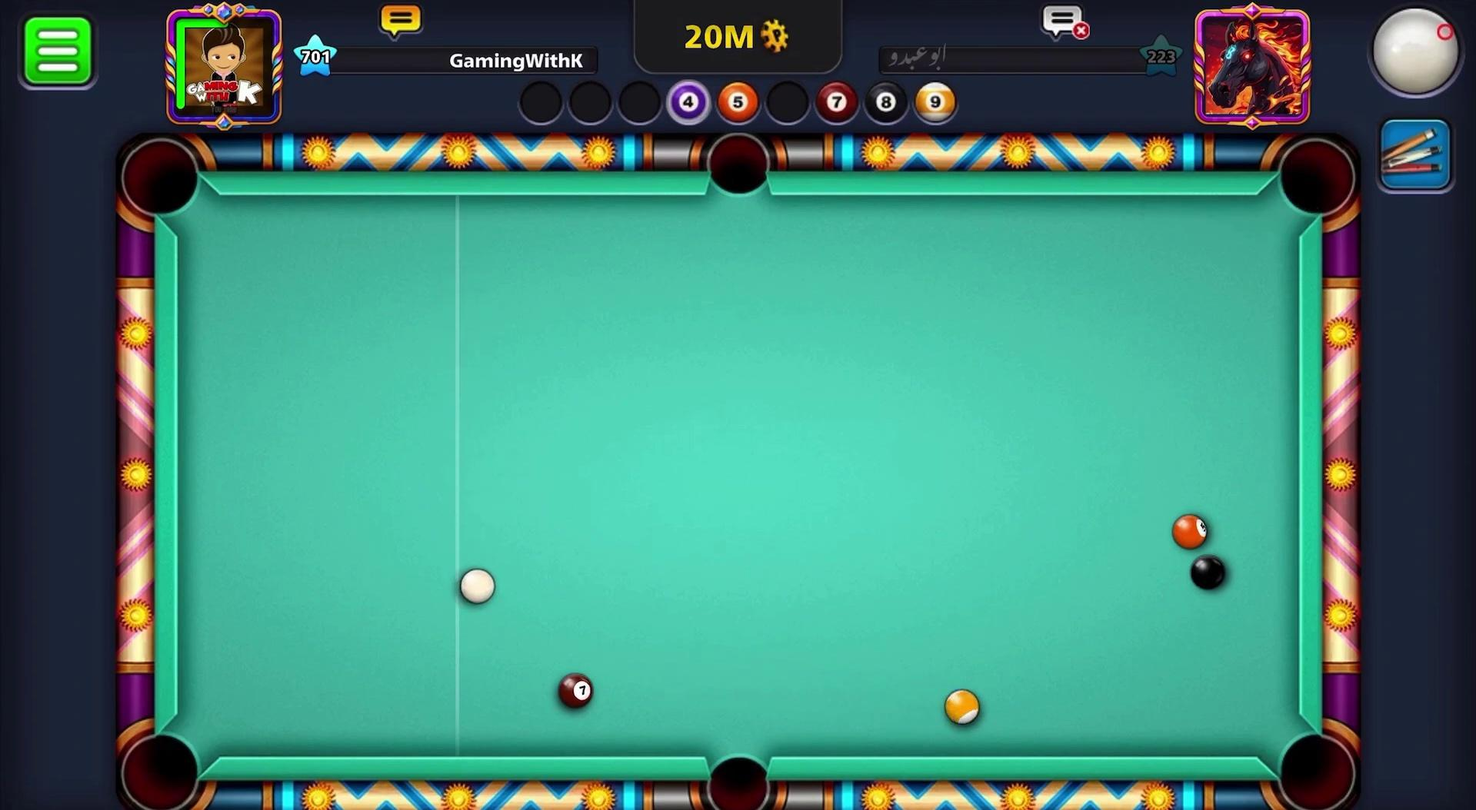Ball: (1171, 500, 1214, 554), (551, 668, 596, 712), (938, 686, 985, 725), (1188, 552, 1230, 593)
Hole: (108, 129, 212, 229), (1265, 712, 1364, 809), (1268, 133, 1364, 229), (115, 725, 205, 809), (691, 741, 782, 809), (703, 126, 774, 203)
Play_Area: (176, 195, 1298, 756)
Spin: (1348, 0, 1475, 112)
White: (454, 564, 498, 608)
